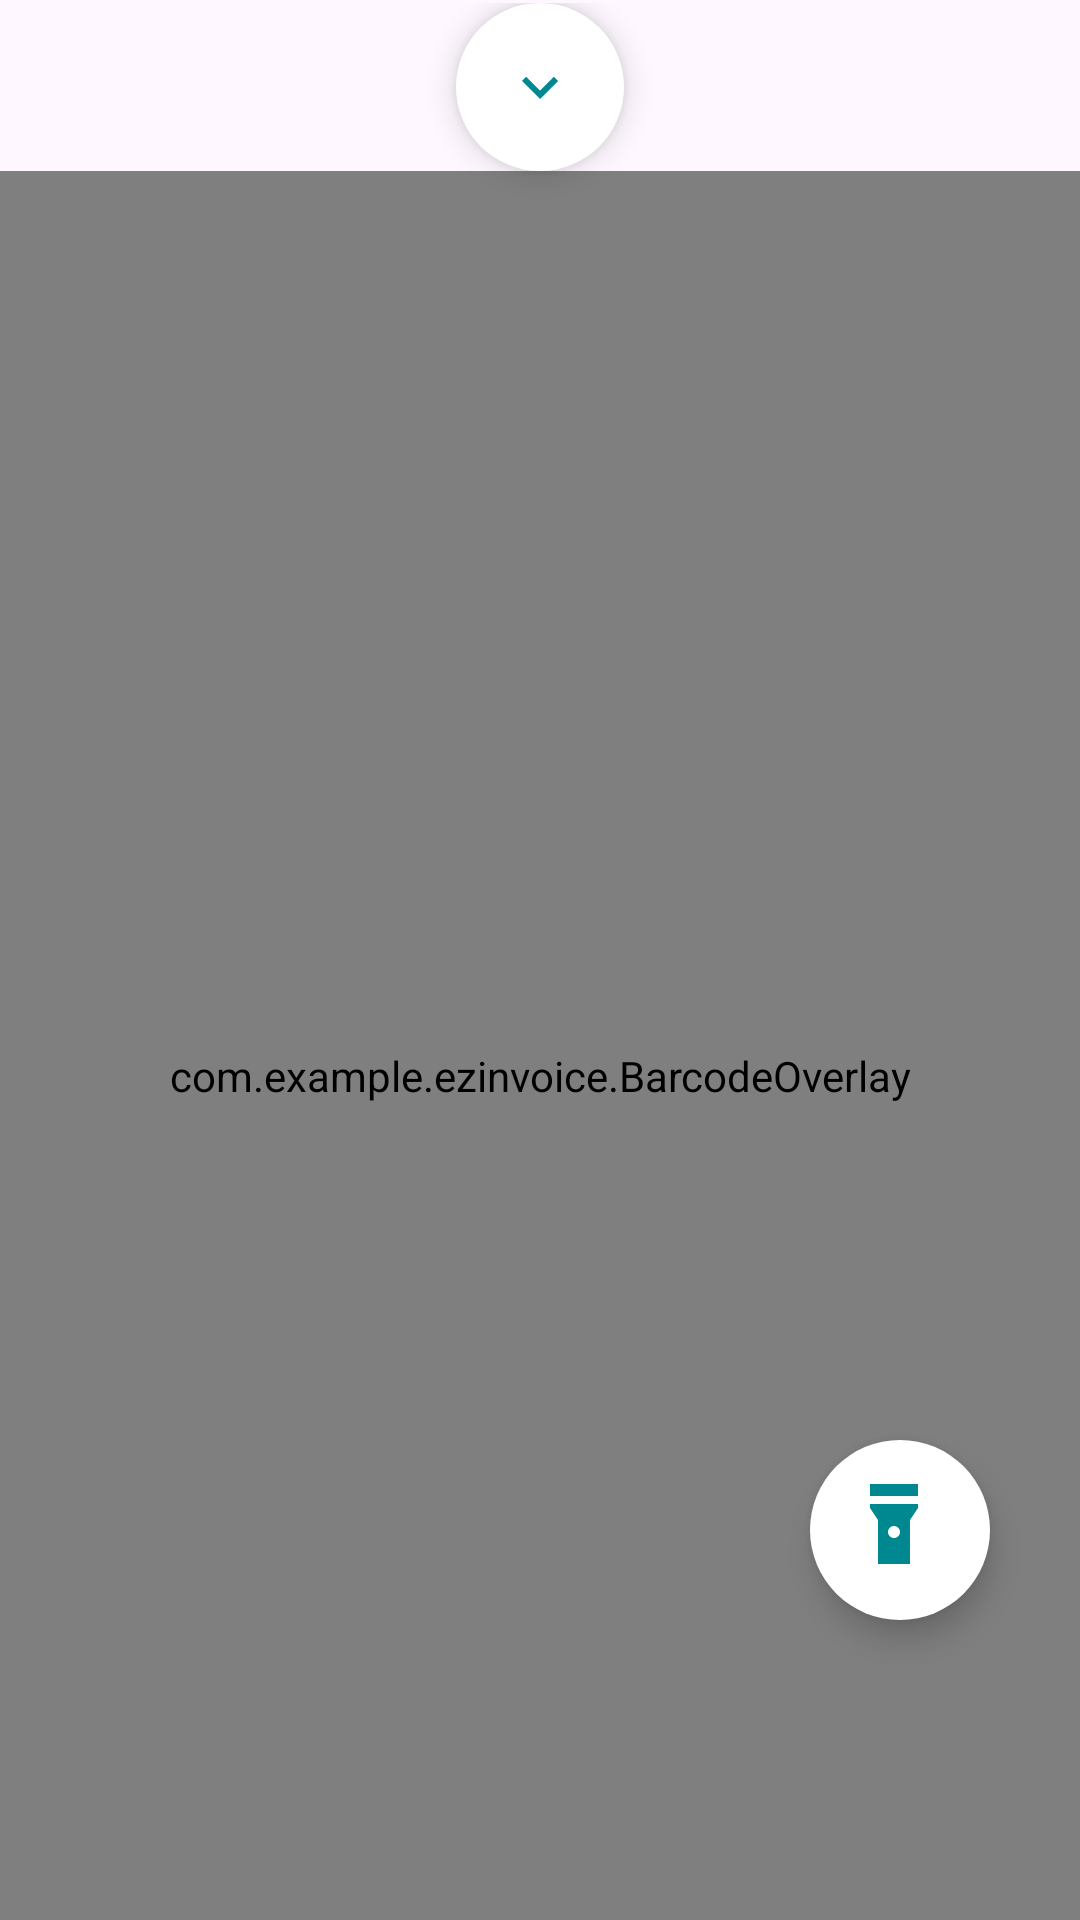

Icon bounding boxes for this 1080*1920 phone screenshot, format (x1, y1, x2, y2):
Close Button: (456, 3, 624, 171)
flashlight on: (810, 1440, 990, 1620)
